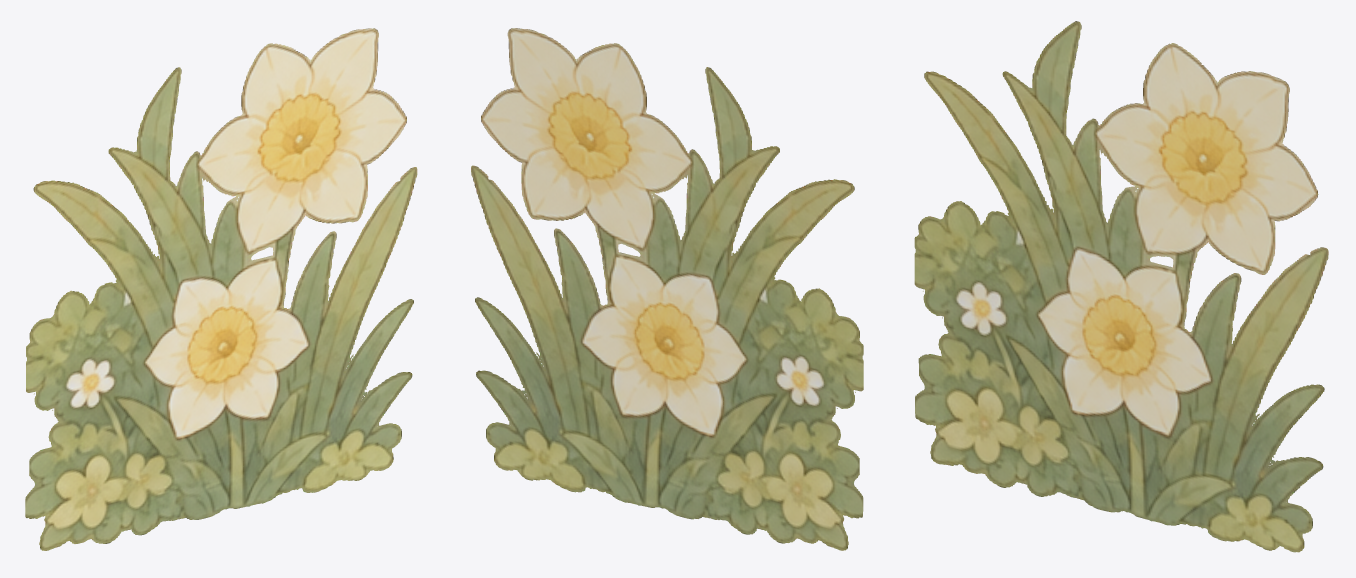
File: garden_flowers_right.glb
3 renders of one model, left to right at view 1: azimuth 30°, elevation 25°; view 2: azimuth 150°, elevation 25°; view 3: azimuth 330°, elevation 25°, orthographic. The views are drawn at different scales.
Parts seen in each view (by area): view 1: flowers_right / painted relief; view 2: flowers_right / painted relief; view 3: flowers_right / painted relief.
Part boxes in pixels (x1,y1,x2,y2): flowers_right / painted relief: (25,28,417,550); flowers_right / painted relief: (471,28,863,550); flowers_right / painted relief: (914,21,1328,552).
Size of the model in its own units: 6.57 by 6.99 by 0.0755.
Materials: 1 (1 with a texture image).
